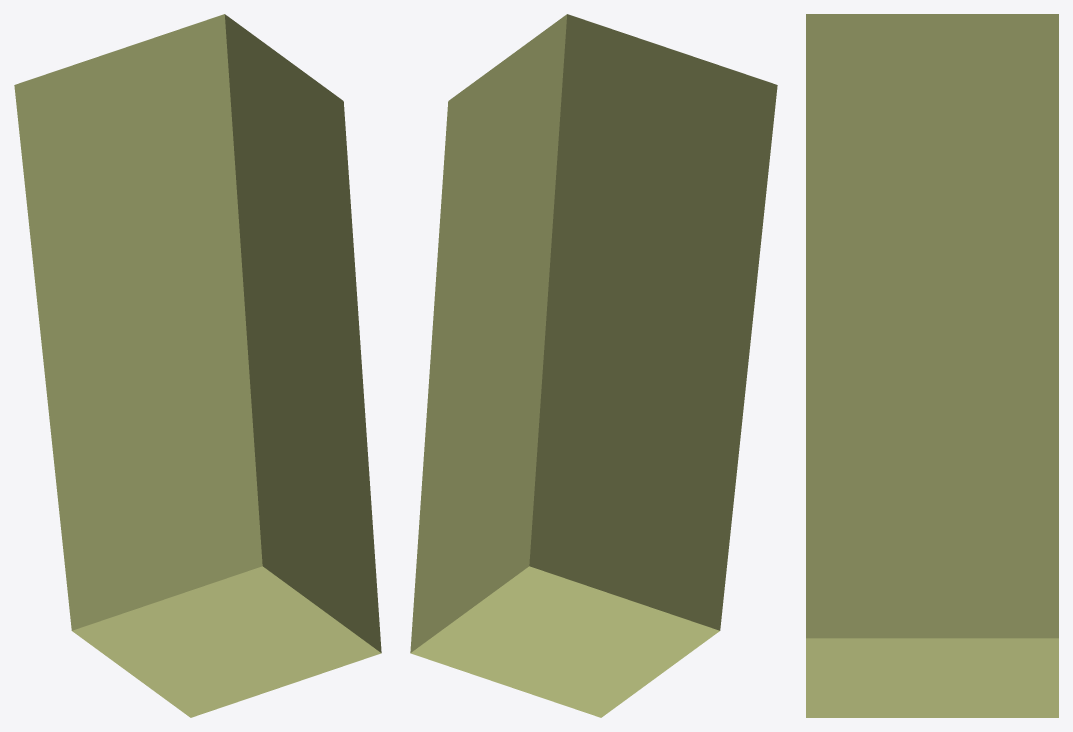
The picture shows the model from 3 angles, left to right: view 1: azimuth 30°, elevation 25°; view 2: azimuth 150°, elevation 25°; view 3: azimuth 270°, elevation 25°; orthographic projection. The views are drawn at different scales.
Parts seen in each view (by area): view 1: 0_1_0_1_3_3_0_3_0; view 2: 0_1_0_1_3_3_0_3_0; view 3: 0_1_0_1_3_3_0_3_0.
Part boxes in pixels (box(x1,y1,x2,y2)): 0_1_0_1_3_3_0_3_0: box(14, 14, 381, 717); 0_1_0_1_3_3_0_3_0: box(410, 14, 777, 717); 0_1_0_1_3_3_0_3_0: box(806, 14, 1058, 717).
Bounding box in the file's own units: 7.23 × 16.12 × 6.
